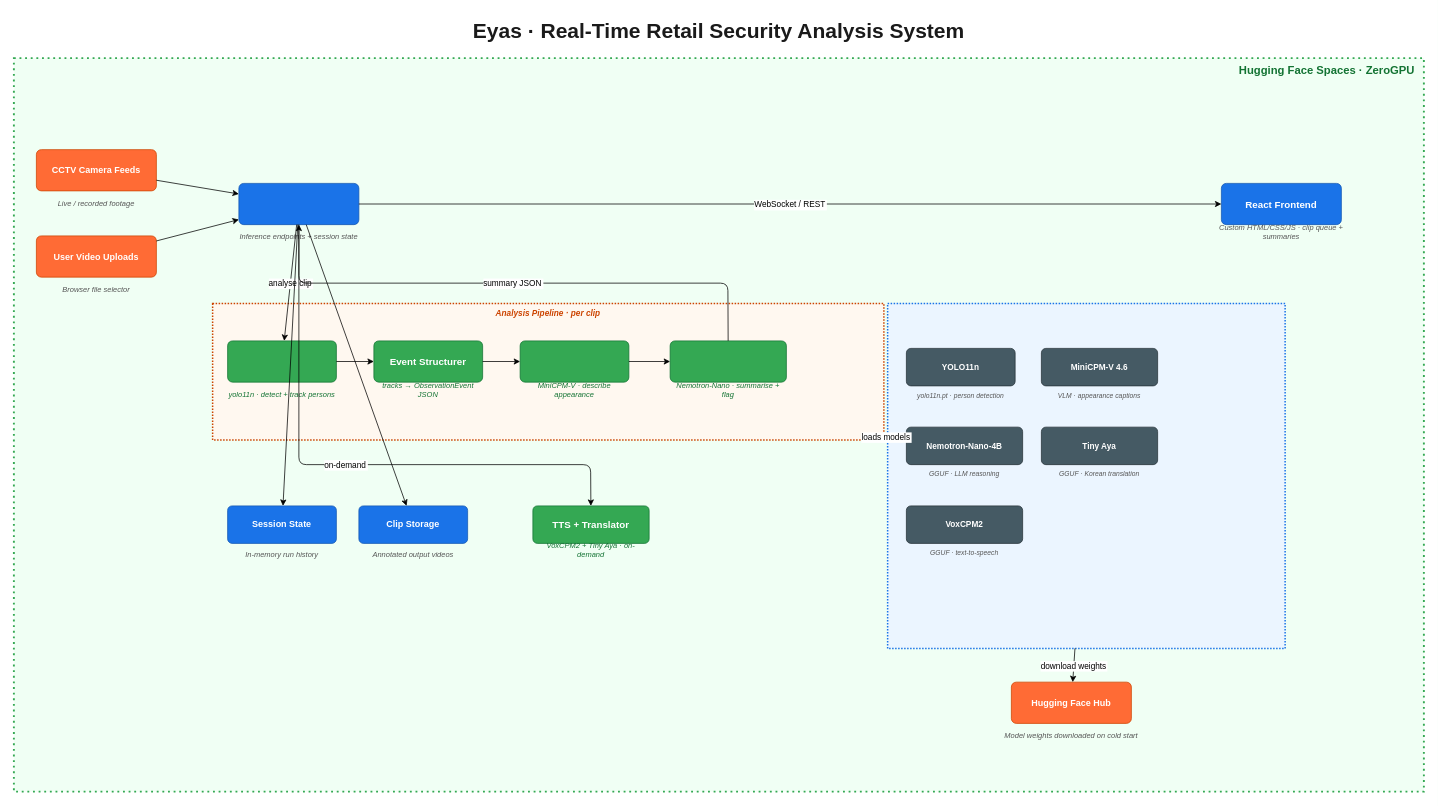
The diagram is 1438 pixels wide and 806 high, and some of its shapes have lost their labels. Here are the shapes that lost their labels. From the top down, the box of each, then its label:
(238, 183, 359, 225): Gradio API
(227, 340, 336, 382): YOLO Tracker
(519, 340, 629, 382): VLM Captioner
(669, 340, 786, 382): LLM Reasoner
(886, 302, 1286, 649): Model Registry
